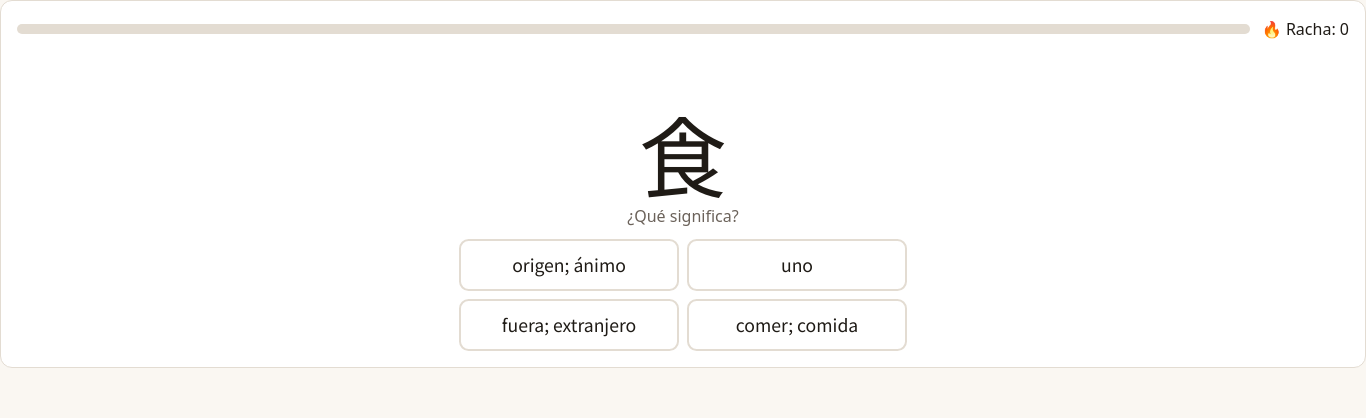
Test case: KanjiGame › the reading round shows the word in bare kanji (no furigana) and checks against kana
What coordinates should you click on to do the following:
click the button "comer; comida"
I would click on:
 (797, 325)
Its box is [687,299,907,351].
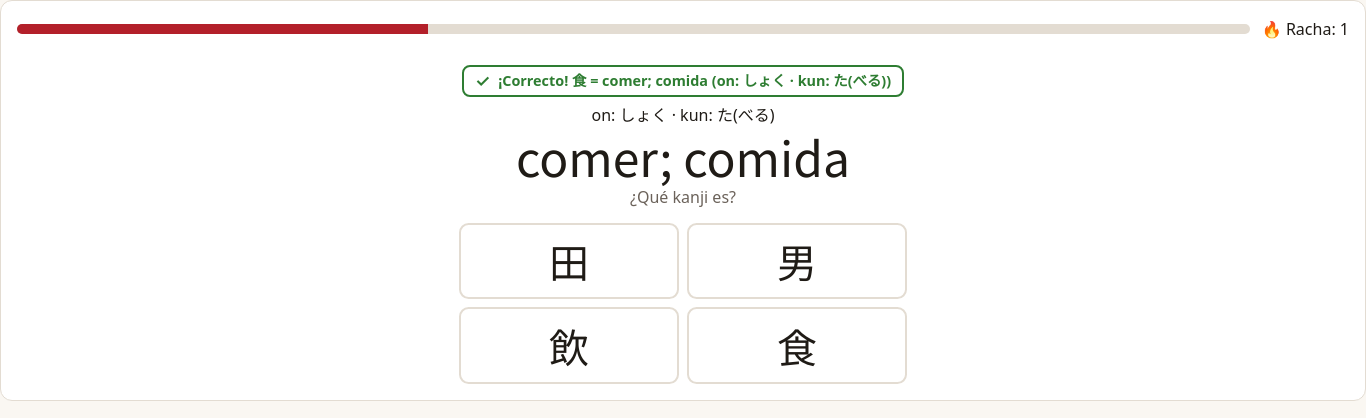
Check: the text "on: しょく · kun: た(べる)" is shown, box [592,105,774,126]
What coordinates should you click on to do the following:
click the button "食"
I would click on:
 (797, 346)
Its box is [687,307,907,384].
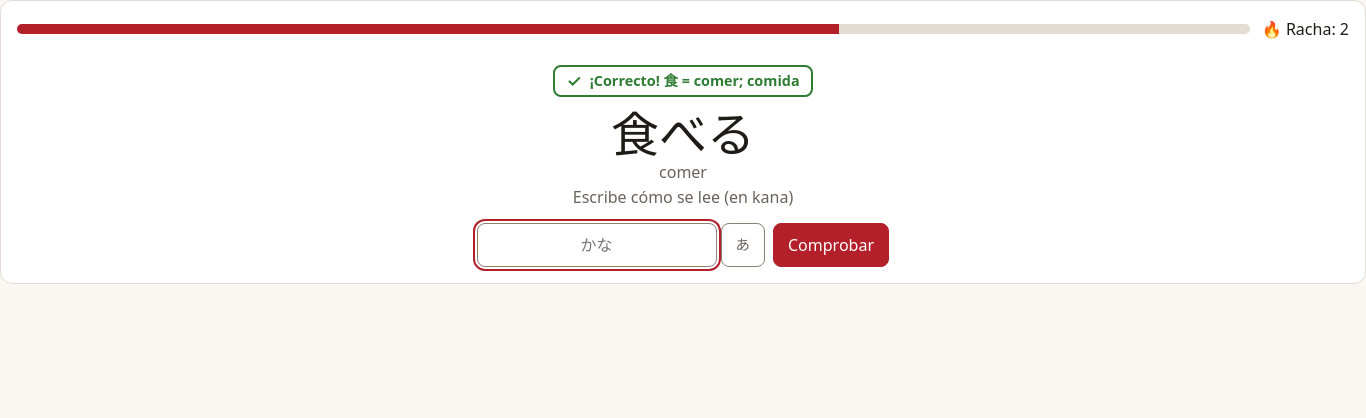
Check: the text with test id "kanji-word" shows "食", box [611,105,755,158]
